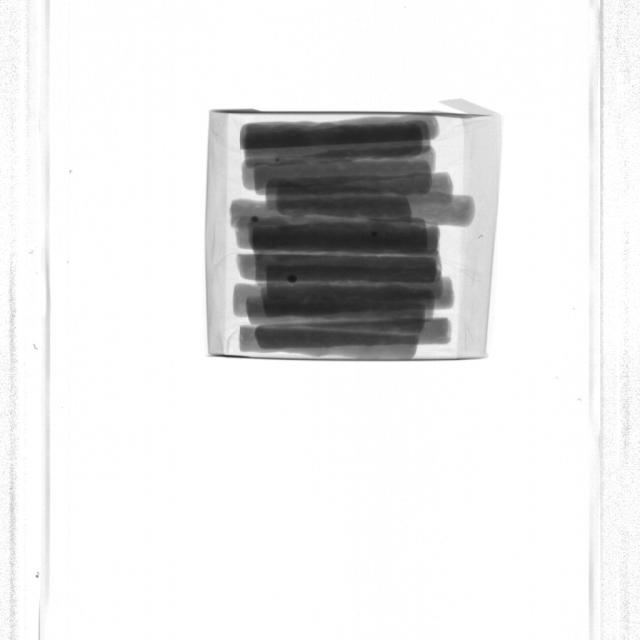ym: (287, 274, 297, 283), (251, 216, 259, 224), (372, 232, 377, 237), (275, 158, 280, 162)
